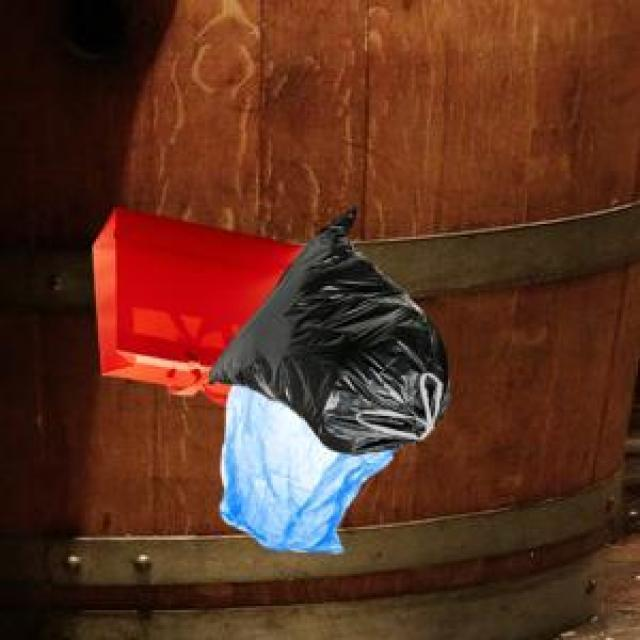miscellaneous trash: (205, 203, 446, 450)
paper: (90, 203, 301, 401)
